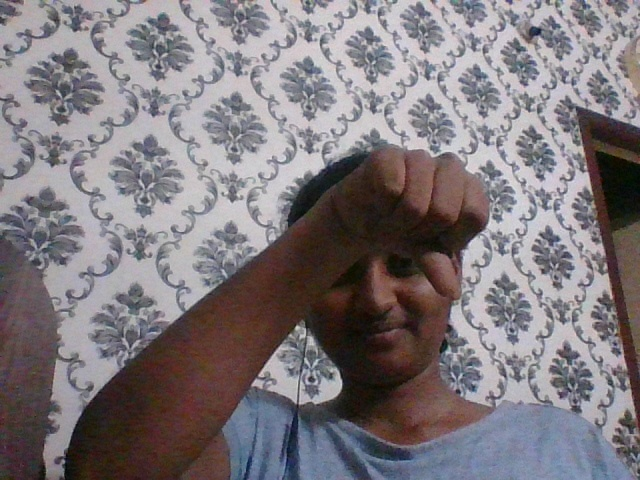yes: (344, 145, 506, 300)
